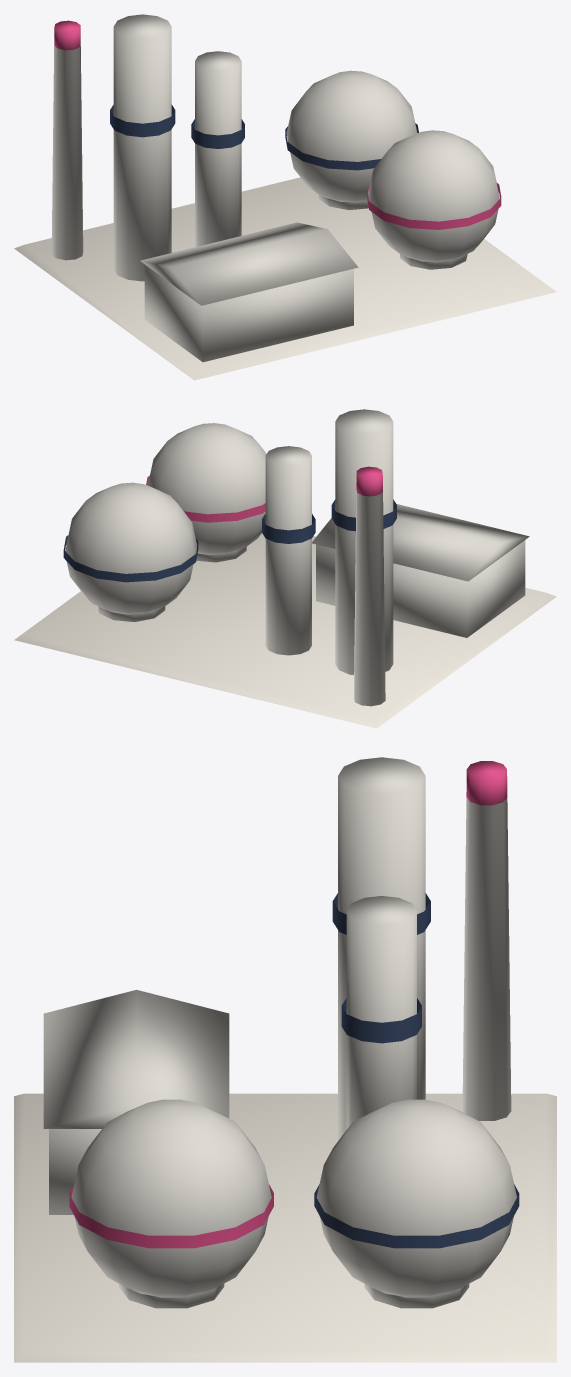
The model's file is upgn.glb.
3 renders of one model, top to bottom at view 1: azimuth 30°, elevation 25°; view 2: azimuth 150°, elevation 25°; view 3: azimuth 270°, elevation 25°, orthographic. The views are drawn at different scales.
Parts seen in each view (by area): view 1: upgn; view 2: upgn; view 3: upgn.
Part boxes in pixels (bbox=[...]): upgn: bbox=[14, 14, 556, 380]; upgn: bbox=[14, 409, 556, 728]; upgn: bbox=[14, 757, 556, 1362].
Bounding box in the file's own units: 72 × 46.9 × 62.
